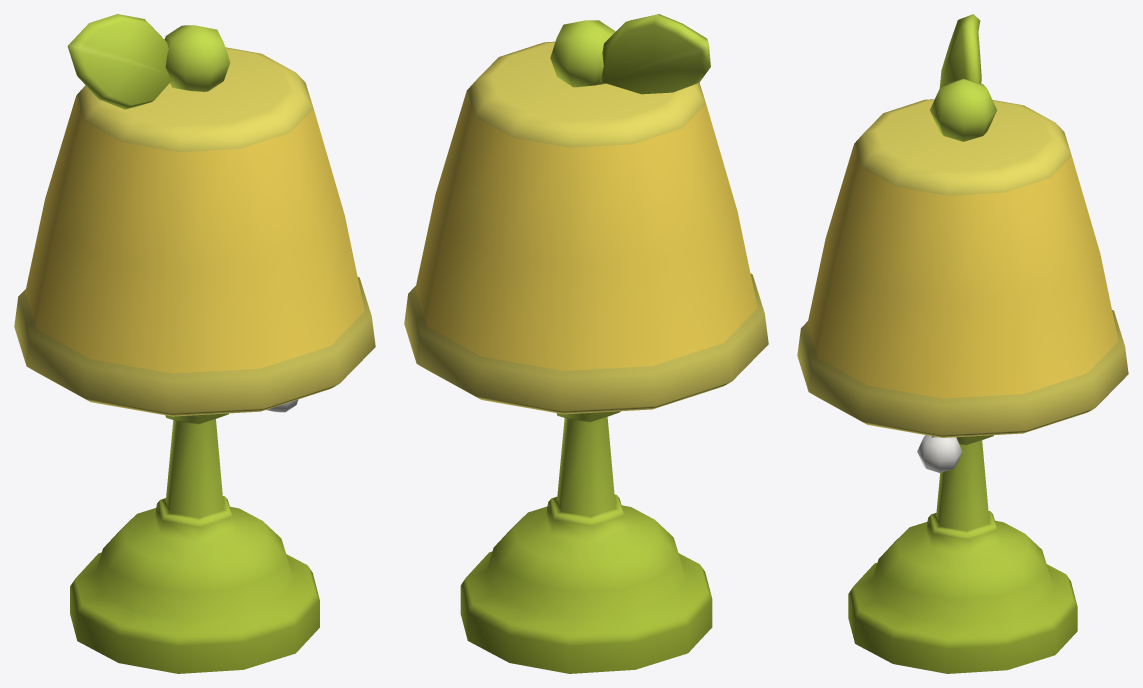
File: Homestead_nm_10.fbx
3 views of the same model, side by side, from view 1: azimuth 30°, elevation 25°; view 2: azimuth 150°, elevation 25°; view 3: azimuth 270°, elevation 25° (orthographic). The views are drawn at different scales.
Visible parts, largest first — view 1: Homestead_nm_10; view 2: Homestead_nm_10; view 3: Homestead_nm_10.
Boxes of the visible parts, <box> form: Homestead_nm_10: <box>14,14,375,673</box>; Homestead_nm_10: <box>404,14,768,673</box>; Homestead_nm_10: <box>797,14,1128,673</box>.
Size of the model in its own units: 69.25 by 131 by 69.25.
